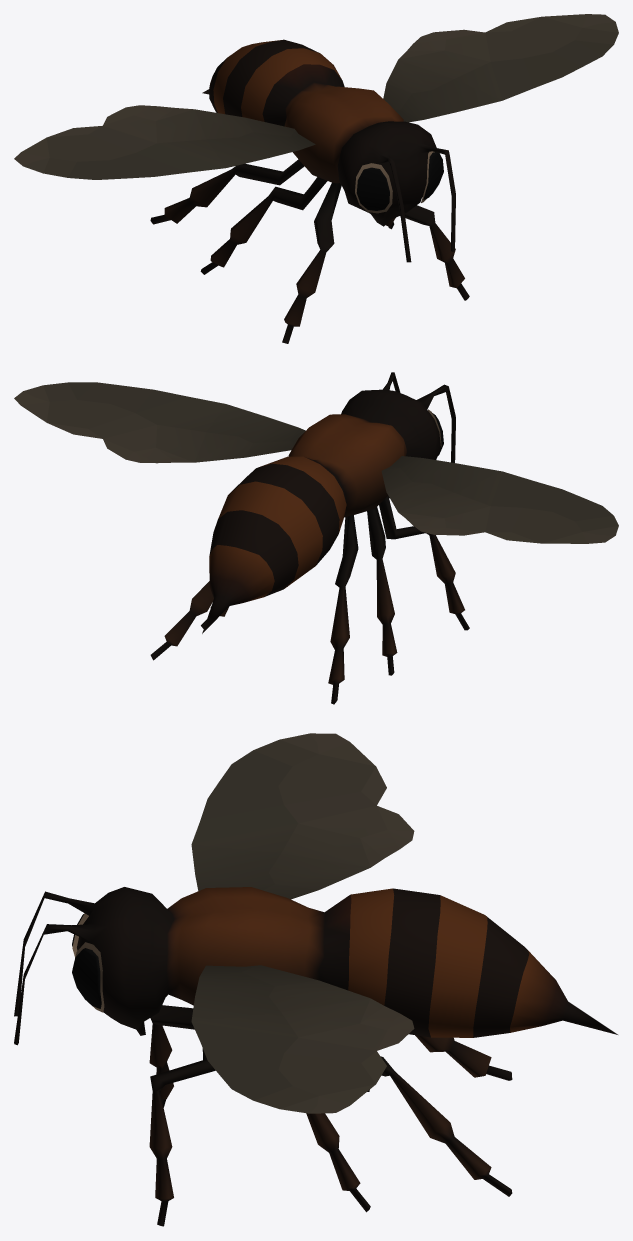
Rendered from Bee.fbx.
3 renders of one model, top to bottom at view 1: azimuth 30°, elevation 25°; view 2: azimuth 150°, elevation 25°; view 3: azimuth 270°, elevation 25°, orthographic. The views are drawn at different scales.
Visible parts, largest first — view 1: base.129; view 2: base.129; view 3: base.129.
Boxes of the visible parts, left/top/right/bottom form: base.129: left=14, top=14, right=618, bottom=343; base.129: left=14, top=372, right=618, bottom=704; base.129: left=14, top=733, right=617, bottom=1226.
Size of the model in its own units: 0.3397 by 0.1141 by 0.2283.
